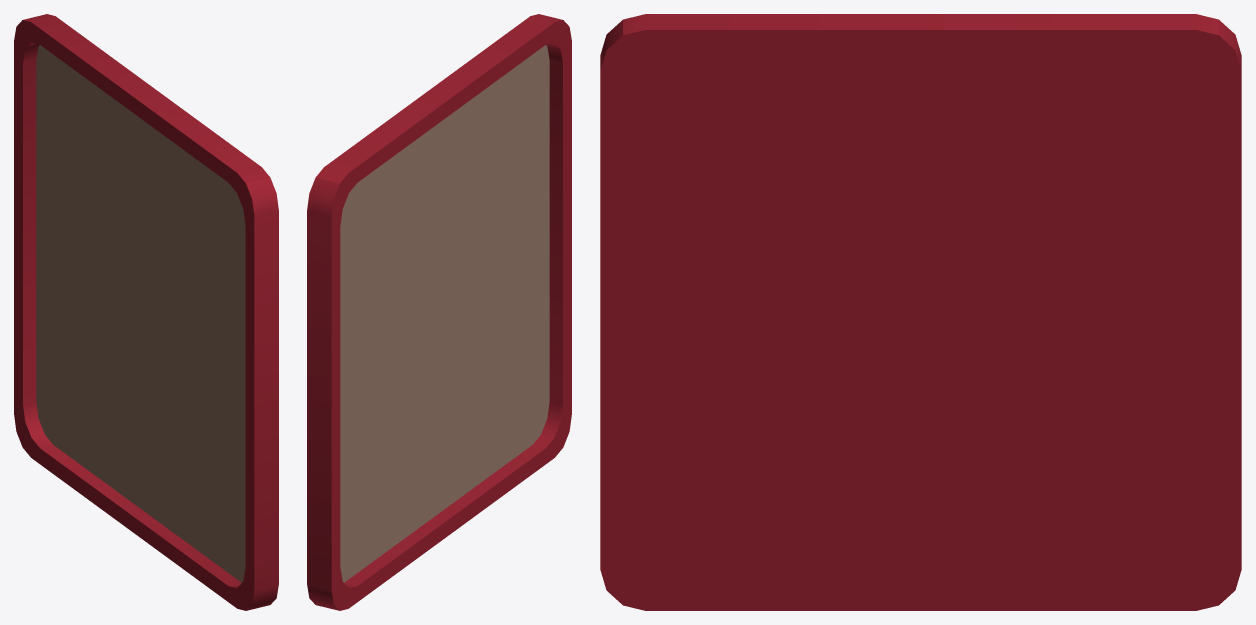
The model's file is anotador.fbx.
The picture shows the model from 3 angles, left to right: view 1: azimuth 30°, elevation 25°; view 2: azimuth 150°, elevation 25°; view 3: azimuth 270°, elevation 25°; orthographic projection. The views are drawn at different scales.
Parts seen in each view (by area): view 1: anotador; view 2: anotador; view 3: anotador.
Boxes of the visible parts, bbox=[...] form: anotador: bbox=[14, 14, 278, 610]; anotador: bbox=[307, 14, 571, 610]; anotador: bbox=[600, 14, 1241, 610].
Size of the model in its own units: 18.9 by 322 by 322.
